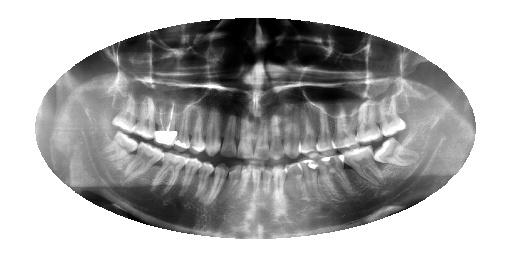i10healthy: (226, 164, 241, 207)
i11healthy: (210, 163, 230, 207)
i12healthy: (196, 162, 214, 200)
i13healthy: (180, 156, 201, 197)
i14healthy: (153, 150, 188, 199)
i15healthy: (120, 141, 165, 191)
i16healthy: (101, 131, 139, 164)
i1healthy: (372, 136, 419, 175)
i2healthy: (338, 146, 383, 188)
i3healthy: (318, 152, 346, 201)
i4healthy: (298, 158, 318, 204)
i5healthy: (286, 163, 303, 206)
i6healthy: (271, 165, 287, 206)
i7healthy: (262, 165, 273, 206)
i8healthy: (251, 165, 262, 206)
i9healthy: (239, 165, 252, 206)
u10healthy: (220, 112, 237, 158)
u11healthy: (205, 108, 222, 157)
u12healthy: (190, 107, 207, 155)
u13healthy: (174, 105, 191, 152)
u14healthy: (153, 101, 178, 149)
u15healthy: (135, 95, 157, 142)
u16healthy: (111, 95, 138, 134)
u1healthy: (378, 94, 406, 138)
u2healthy: (353, 102, 382, 142)
u3healthy: (331, 105, 359, 148)
u4healthy: (315, 106, 336, 155)
u5healthy: (299, 111, 319, 159)
u6healthy: (283, 113, 299, 159)
u7healthy: (270, 112, 284, 164)
u8healthy: (253, 113, 270, 162)
u9healthy: (237, 113, 254, 161)
